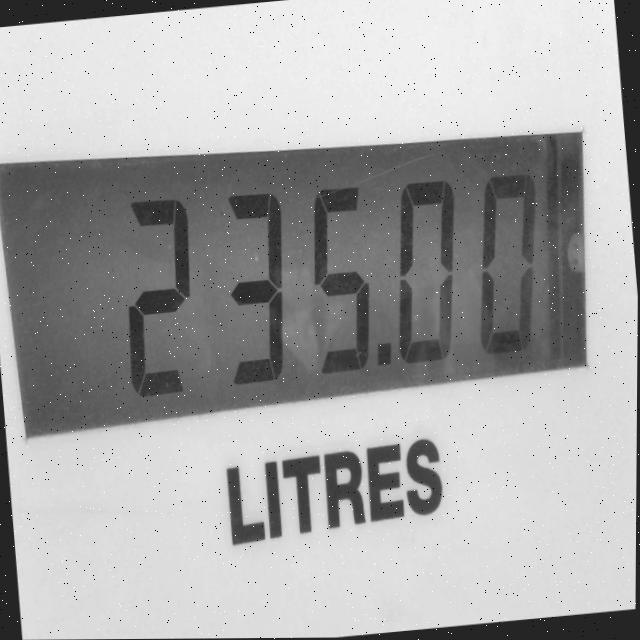.: (371, 326, 407, 388)
0: (458, 148, 554, 369), (380, 155, 475, 369)
2: (112, 197, 204, 401)
3: (218, 176, 300, 393)
5: (291, 176, 385, 372)
